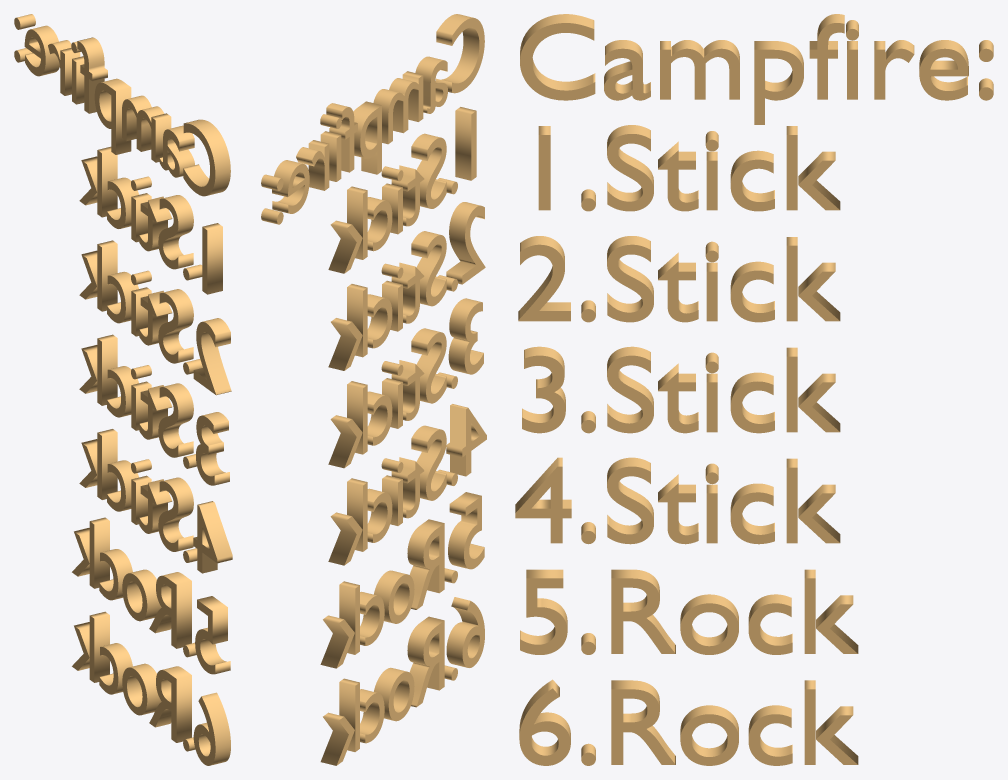
Rendered from eight.fbx.
3 renders of one model, left to right at view 1: azimuth 30°, elevation 25°; view 2: azimuth 150°, elevation 25°; view 3: azimuth 270°, elevation 25°, orthographic. The views are drawn at different scales.
Parts seen in each view (by area): view 1: Text; view 2: Text; view 3: Text.
Boxes of the visible parts, left/top/right/bottom form: Text: left=14, top=14, right=232, bottom=765; Text: left=261, top=14, right=486, bottom=765; Text: left=515, top=14, right=993, bottom=765.
Bounding box in the file's own units: 17.2 × 670 × 391.
